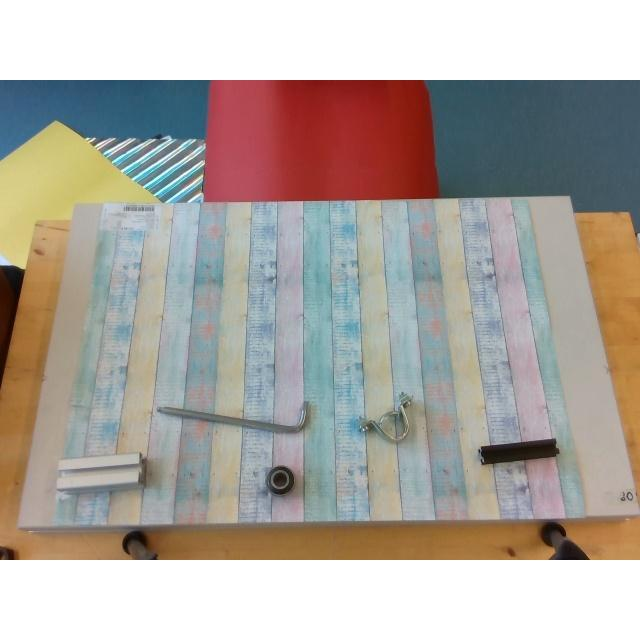AllenKey: (156, 401, 308, 432)
Bearing2: (266, 466, 294, 494)
F20_20_B: (478, 440, 558, 464)
Housing: (360, 392, 412, 442)
S40_40_G: (56, 452, 142, 490)
